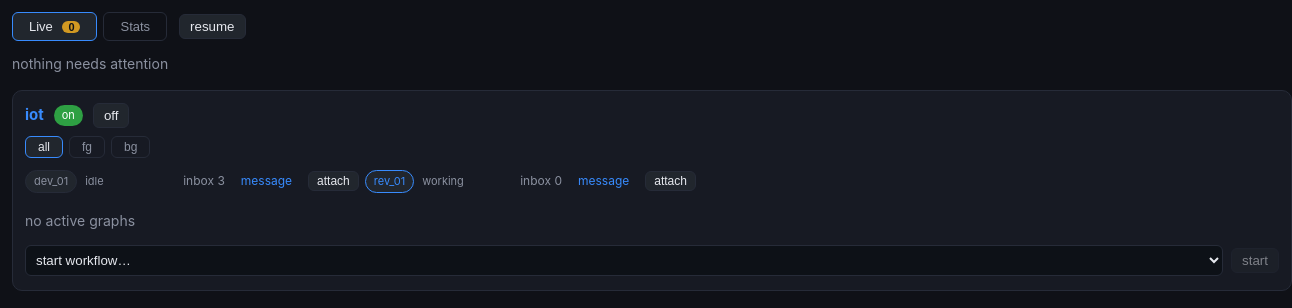
Scenario: workspace cards › filters agent rows by fg/bg mode
expect the text "dev_01" is shown: met, box left=25, top=170, right=77, bottom=192
Click the button "fg".
click(87, 147)  # box left=69, top=136, right=105, bottom=158
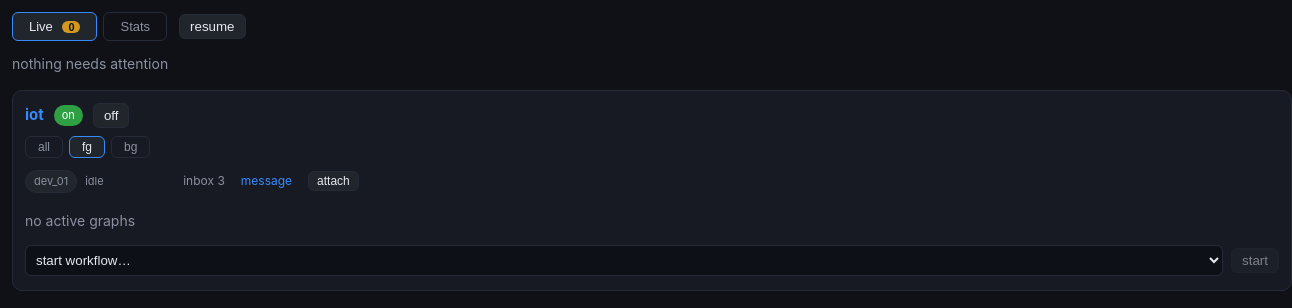
expect the text "dev_01" is shown: met, box left=25, top=170, right=77, bottom=192
expect the link "rev_01" is gone: met
Click the button "bg".
click(131, 147)  # box left=111, top=136, right=150, bottom=158
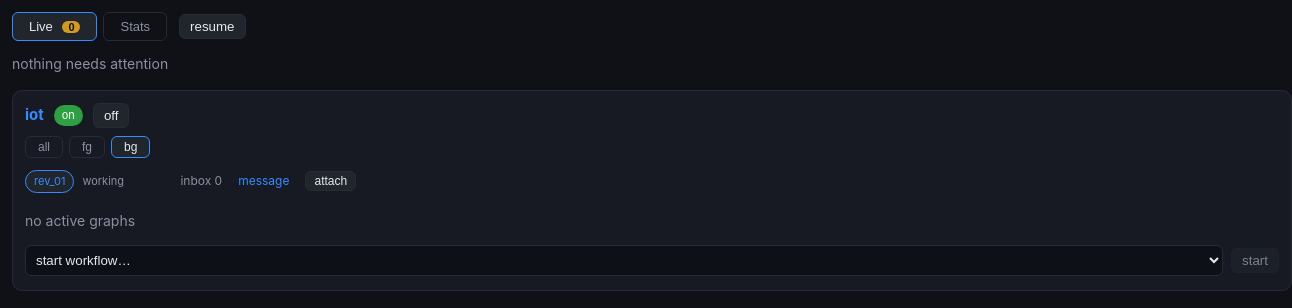
expect the text "rev_01" is shown: met, box left=25, top=170, right=74, bottom=192
expect the link "dev_01" is gone: met
Click the button "all".
click(44, 147)  # box left=25, top=136, right=63, bottom=158
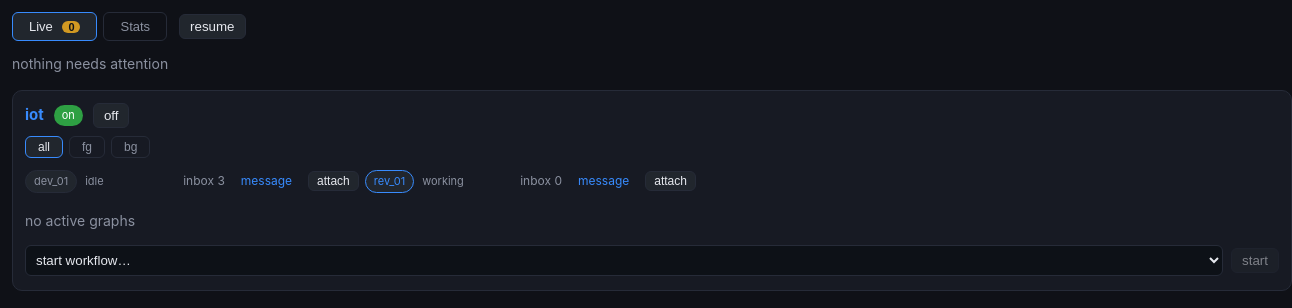
expect the text "rev_01" is shown: met, box left=365, top=170, right=414, bottom=192
expect the text "dev_01" is shown: met, box left=25, top=170, right=77, bottom=192
